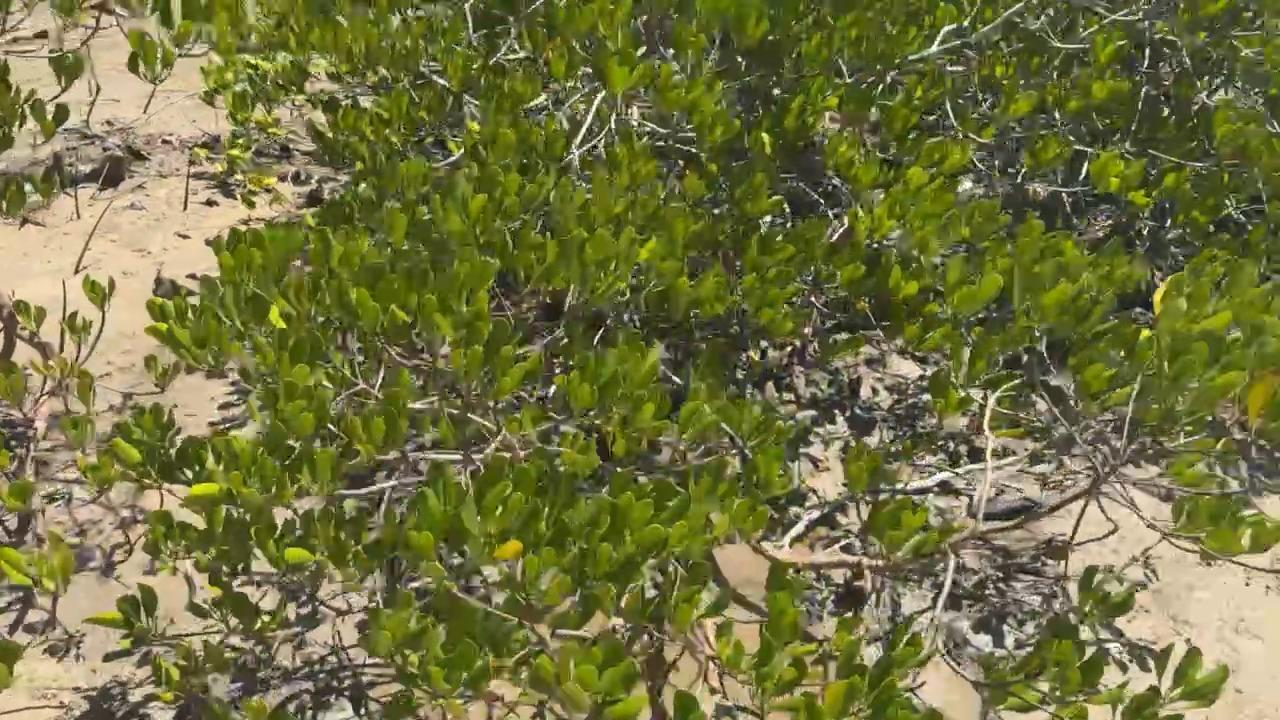Tree: (74, 198, 113, 275), (181, 158, 191, 212), (141, 84, 157, 115), (73, 176, 82, 221)
